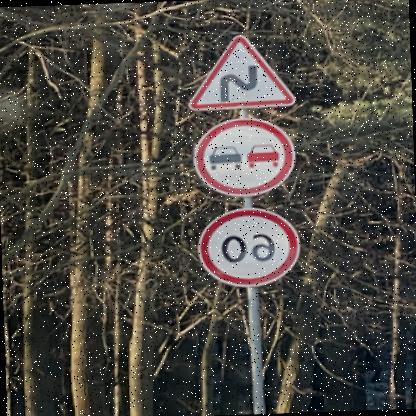speedlimit: (199, 206, 304, 287)
